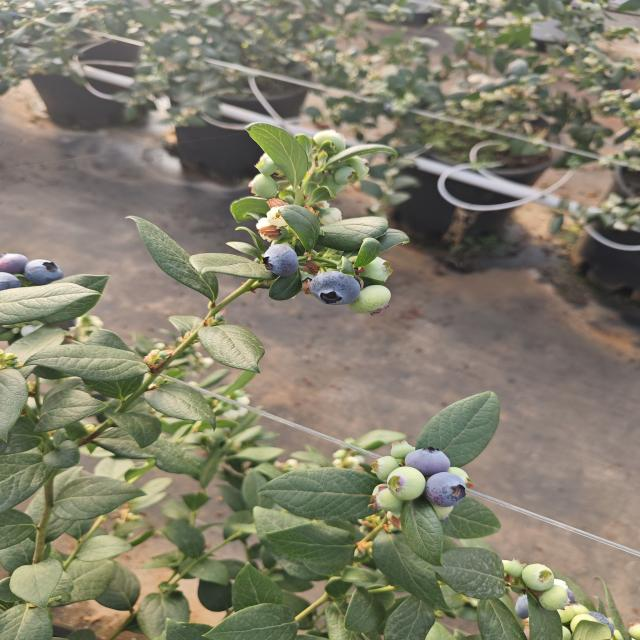ripe: (306, 269, 363, 307), (423, 471, 469, 509), (259, 242, 302, 279), (22, 252, 67, 286), (404, 442, 452, 472), (0, 246, 30, 276), (0, 270, 25, 298)
